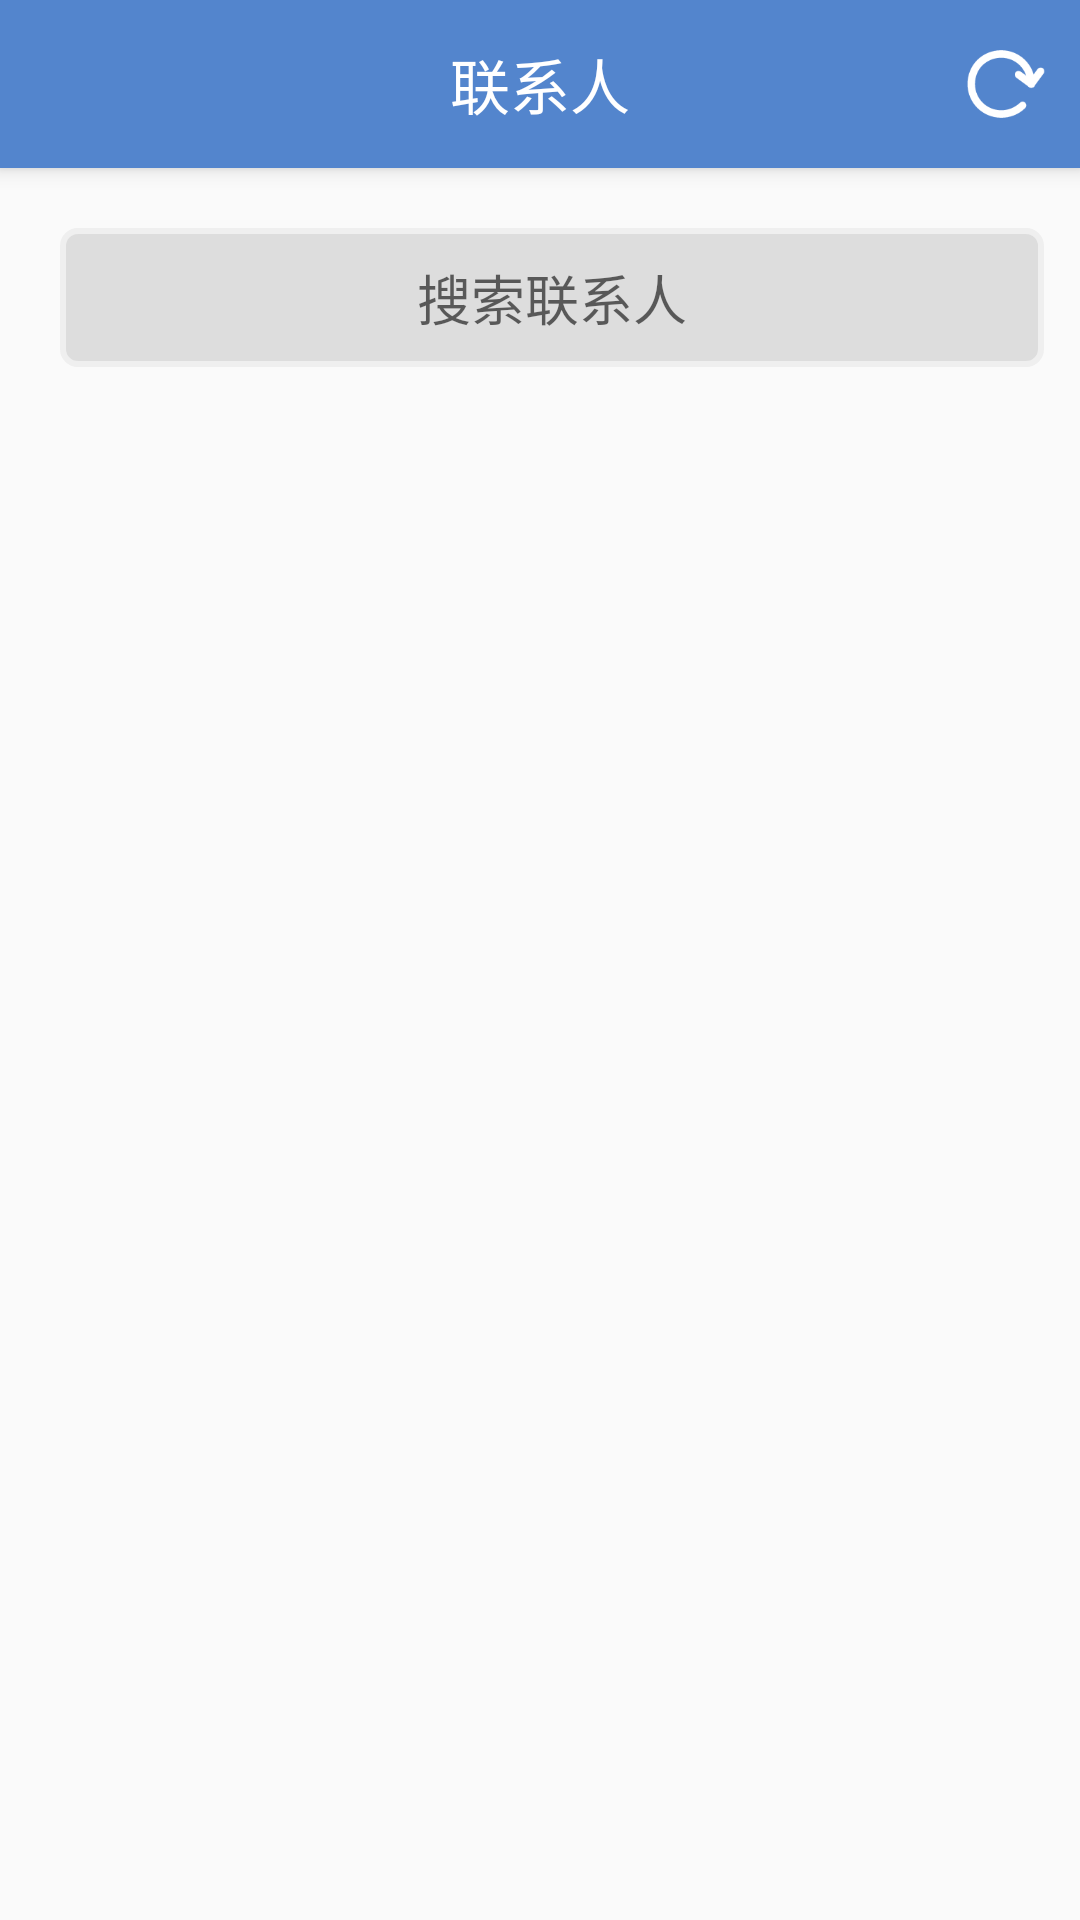

Screen size 1080*1920. Icon name, then its center in pixels as [x,y]:
refresh: [1006,84]
